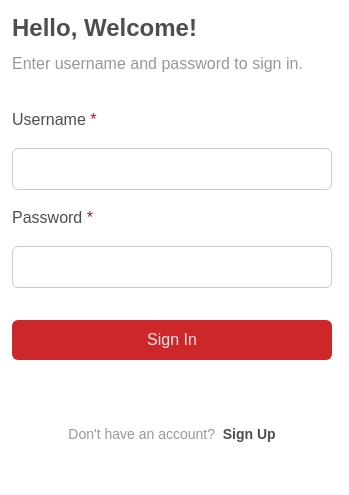
Test: sign in page › validates form fields - missing required value
In the field labelled "Username": (172, 169) [12,148,332,190], type "Jessica"
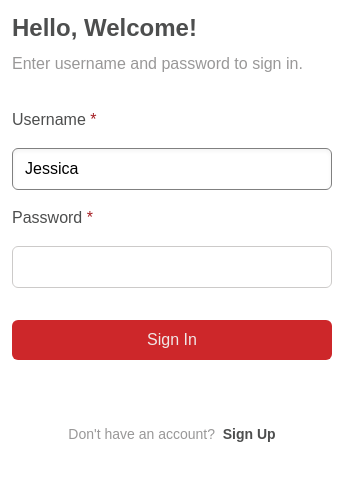
Click the button with aria-label "submit": (172, 340) [12,320,332,360]
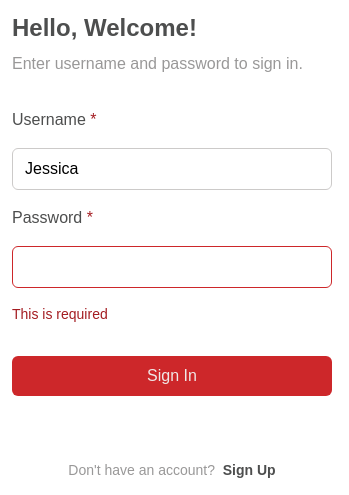
Now the number of messages is 1, box [12,306,108,322]
